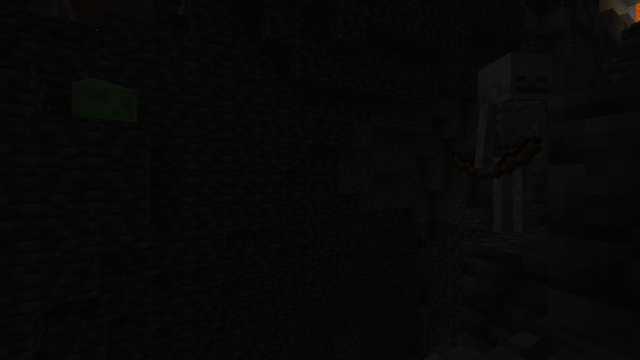slimes: (69, 74, 129, 120)
squelettes: (472, 52, 543, 239)
